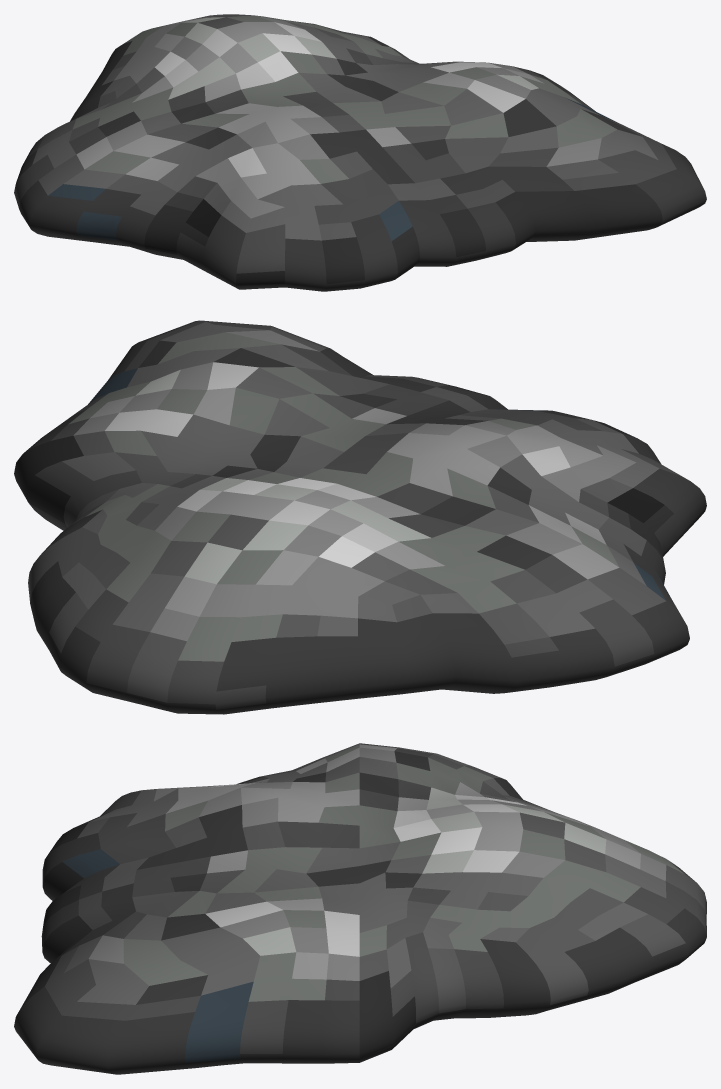
Rendered from newshd-85.glb.
3 renders of one model, top to bottom at view 1: azimuth 30°, elevation 25°; view 2: azimuth 150°, elevation 25°; view 3: azimuth 270°, elevation 25°, orthographic. The views are drawn at different scales.
Parts seen in each view (by area): view 1: newshd-85; view 2: newshd-85; view 3: newshd-85.
Boxes of the visible parts, x1,y1,x2,y2 form: newshd-85: (14,14,706,291); newshd-85: (14,320,706,714); newshd-85: (14,743,706,1074).
Size of the model in its own units: 2.04 by 0.4497 by 1.96.
